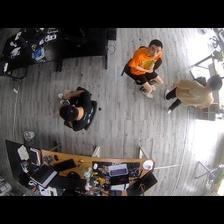normal: (166, 66, 222, 115), (119, 37, 164, 95), (55, 85, 98, 130)
